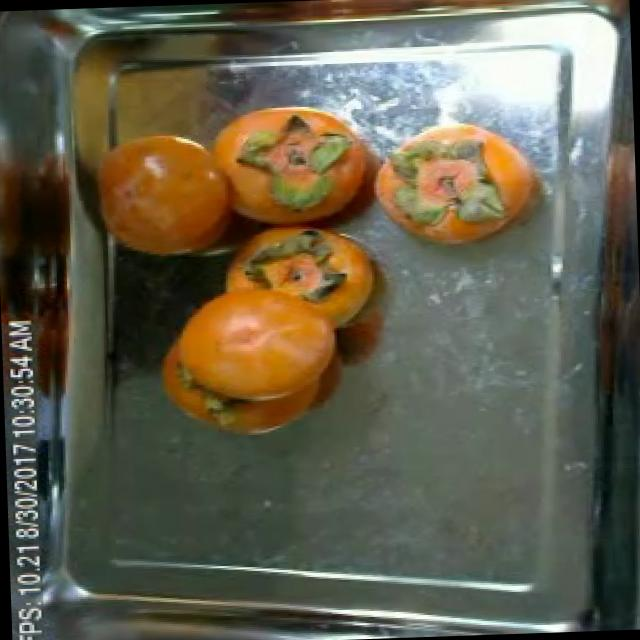Fruit: (139, 267, 349, 446), (55, 102, 262, 279)
